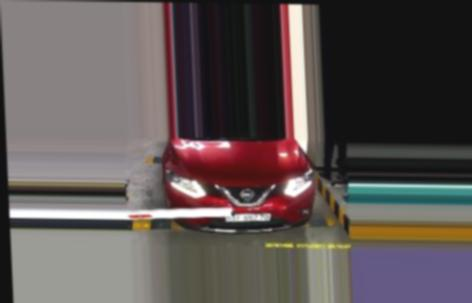License_Plate: (225, 210, 269, 224)
